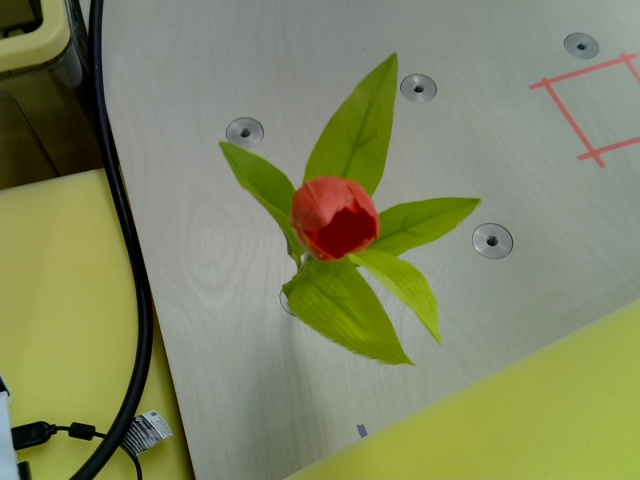튤립: (290, 175, 380, 261)
